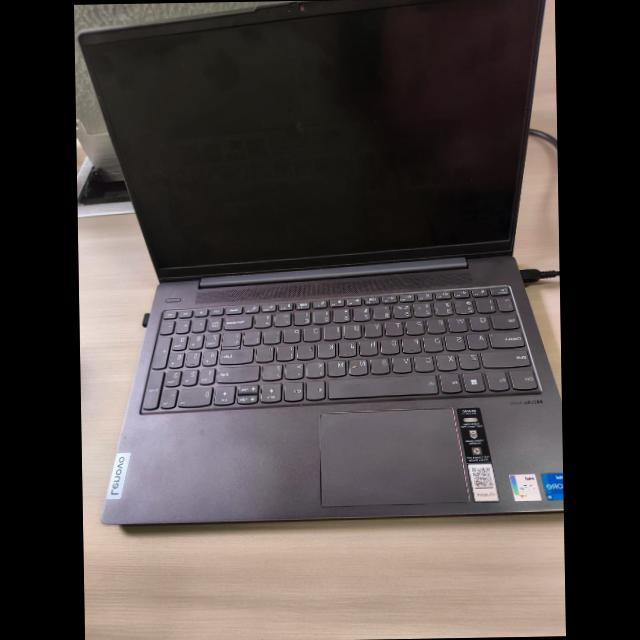laptop: (73, 0, 566, 558)
